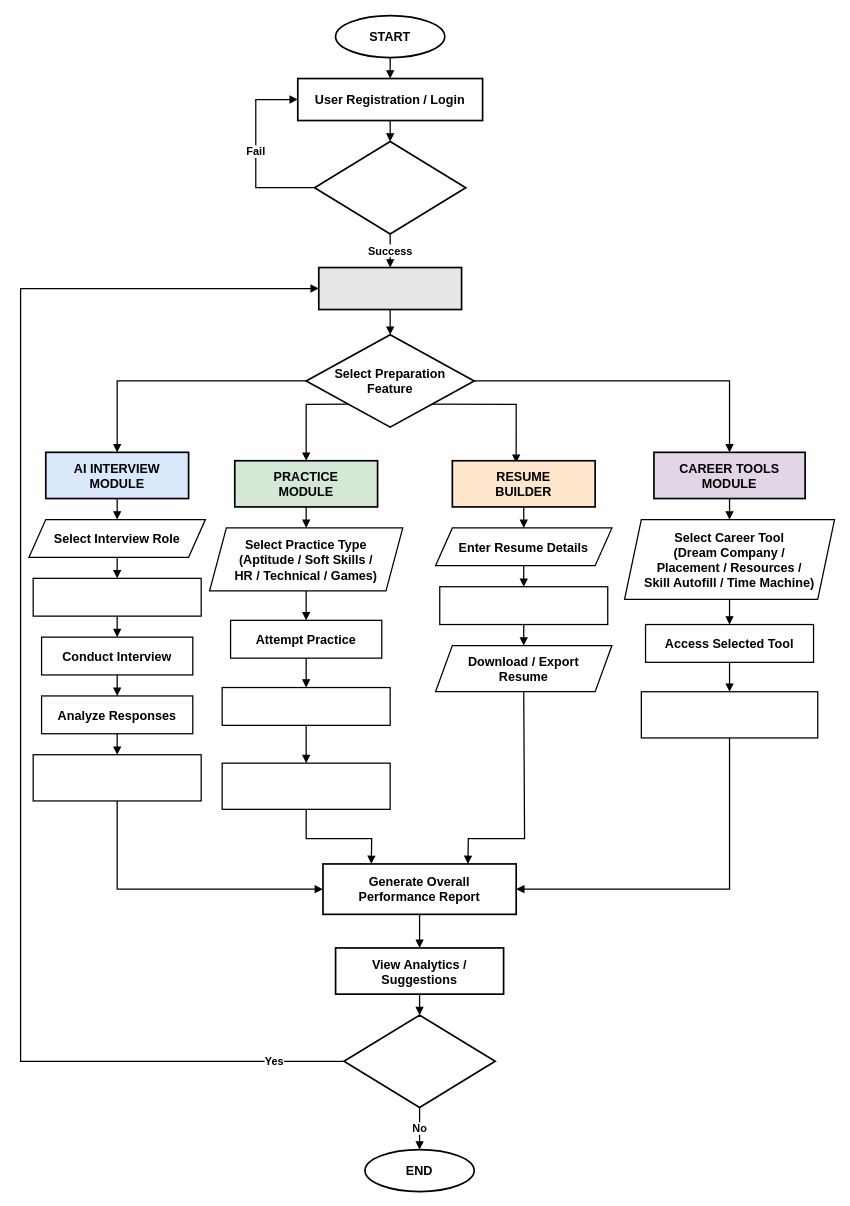
Some shapes in this 850 by 1206 pixel diagram are drawn without their labels. The shapes that lost their labels are listed below. From the top down, each one's centre as x and y in pixels, then its label:
pixel 389 187: User Authentication
pixel 390 288: DASHBOARD
pixel 116 596: Generate AI Questions
pixel 523 605: Generate ATS Resume
pixel 305 706: Evaluate Performance
pixel 729 714: View Career Data / Recommendations
pixel 116 777: Generate Interview Feedback
pixel 305 786: Generate Practice Feedback
pixel 419 1061: Continue Preparation?
